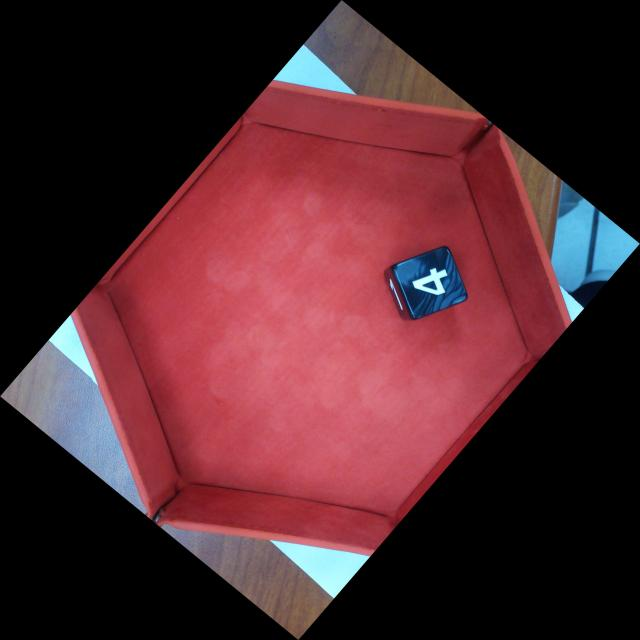dice: (391, 242, 471, 321)
